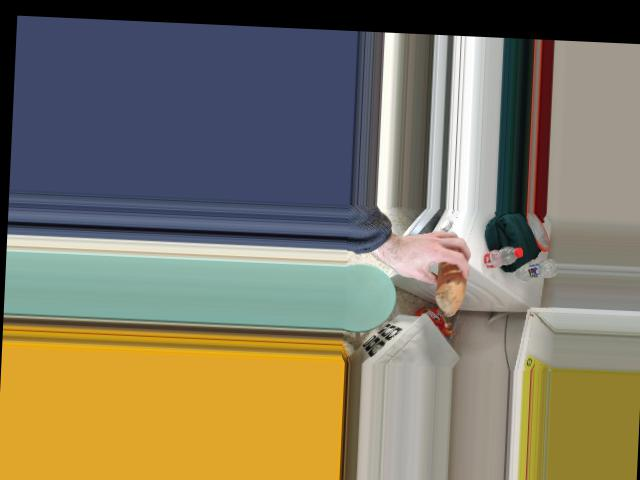sweet_potato: (435, 258, 467, 304)
